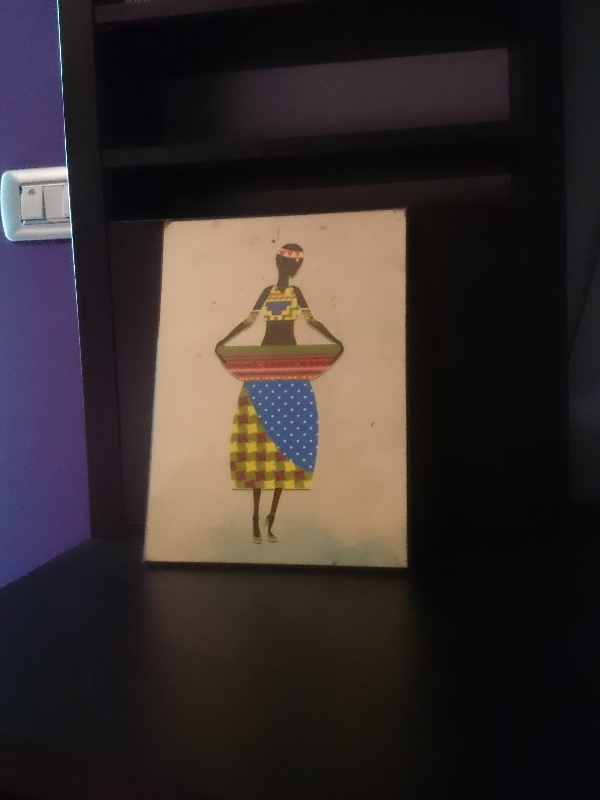my image: (146, 213, 404, 562)
